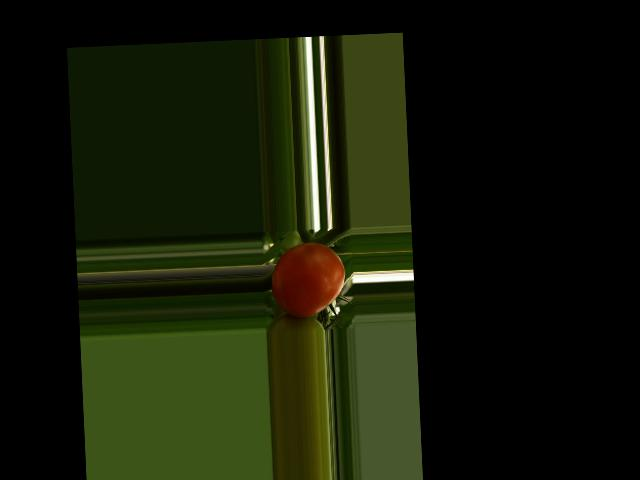tomato: (269, 241, 347, 319)
